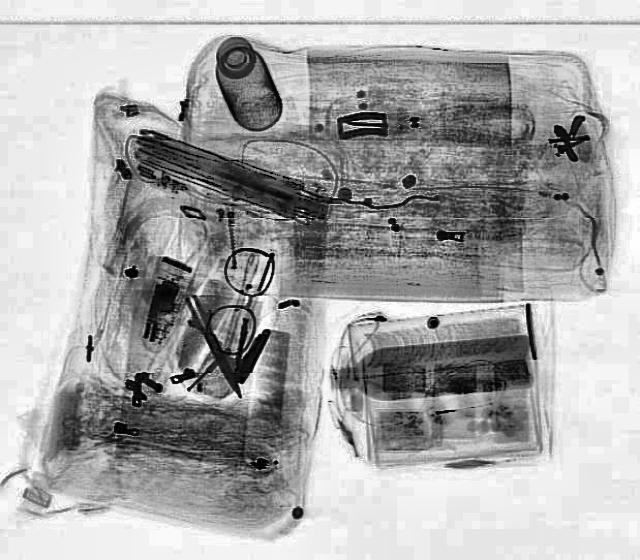Knife: (173, 291, 255, 403)
